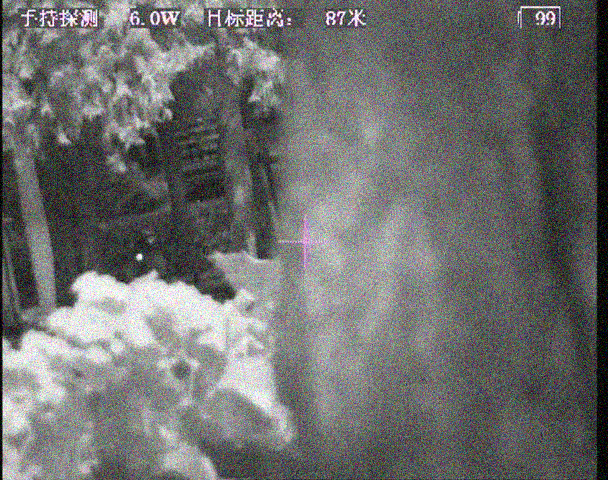my: (134, 252, 144, 262)
